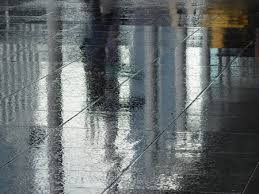Wet-floor: (0, 3, 259, 194)
